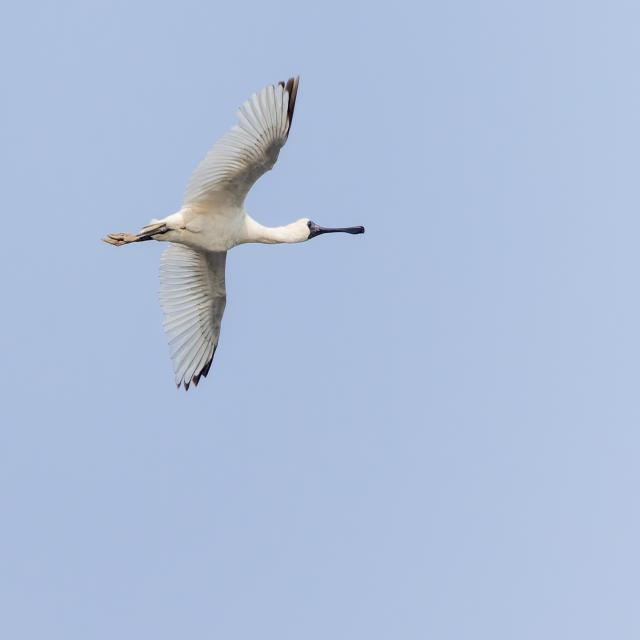Black-faced spoonbill: (104, 78, 364, 389)
